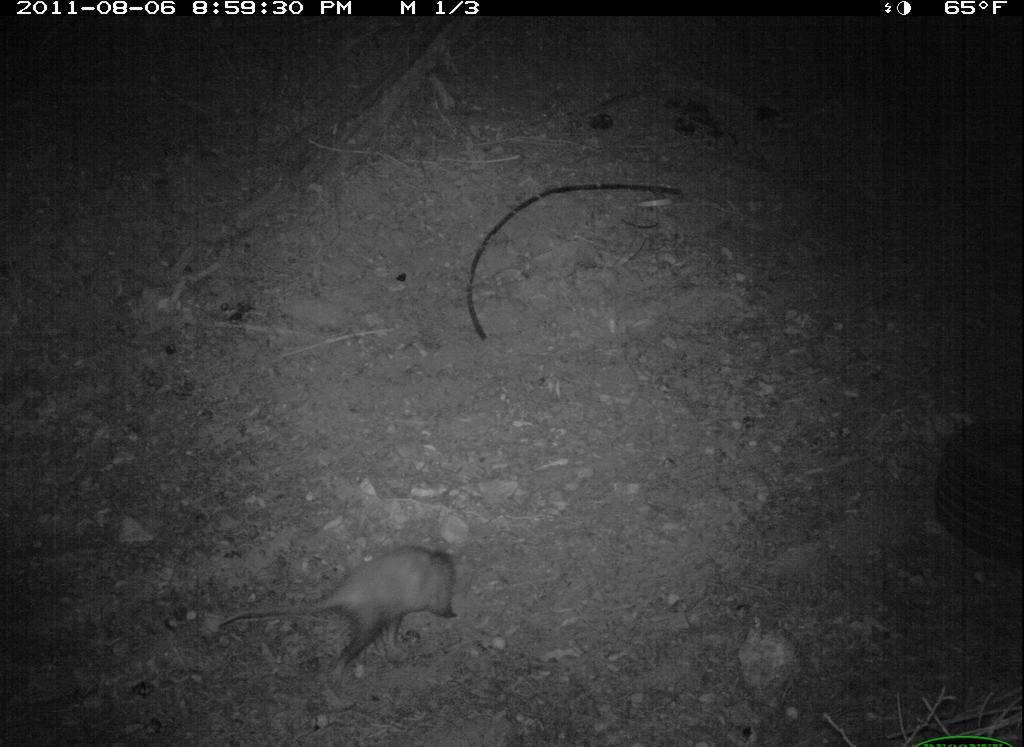opossum: (217, 537, 487, 658)
